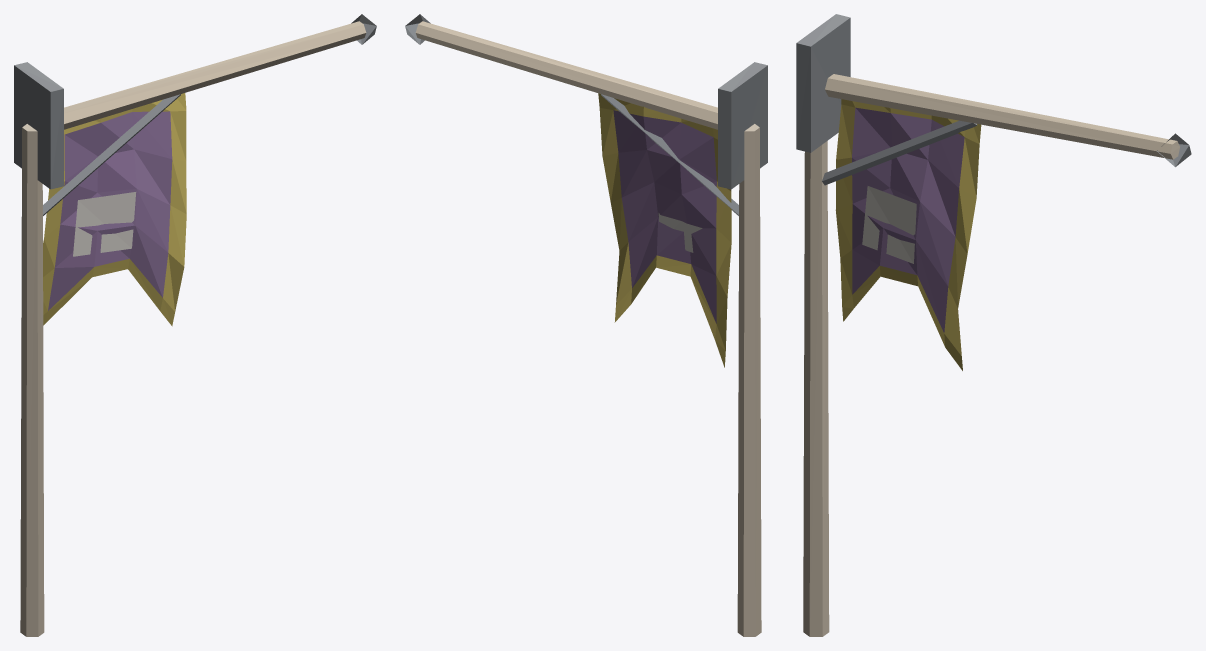
File: flag.gonfalon.zifan__pole.horizontal.xiecheng__armHang.glb
The picture shows the model from 3 angles, left to right: view 1: azimuth 30°, elevation 25°; view 2: azimuth 150°, elevation 25°; view 3: azimuth 330°, elevation 25°; orthographic projection. The views are drawn at different scales.
Parts seen in each view (by area): view 1: flag.gonfalon.zifan; view 2: flag.gonfalon.zifan; view 3: flag.gonfalon.zifan.
Boxes of the visible parts, <box> form: flag.gonfalon.zifan: <box>14,14,376,636</box>; flag.gonfalon.zifan: <box>405,14,767,636</box>; flag.gonfalon.zifan: <box>796,14,1191,636</box>.
Size of the model in its own units: 2.12 by 3.18 by 0.38.
